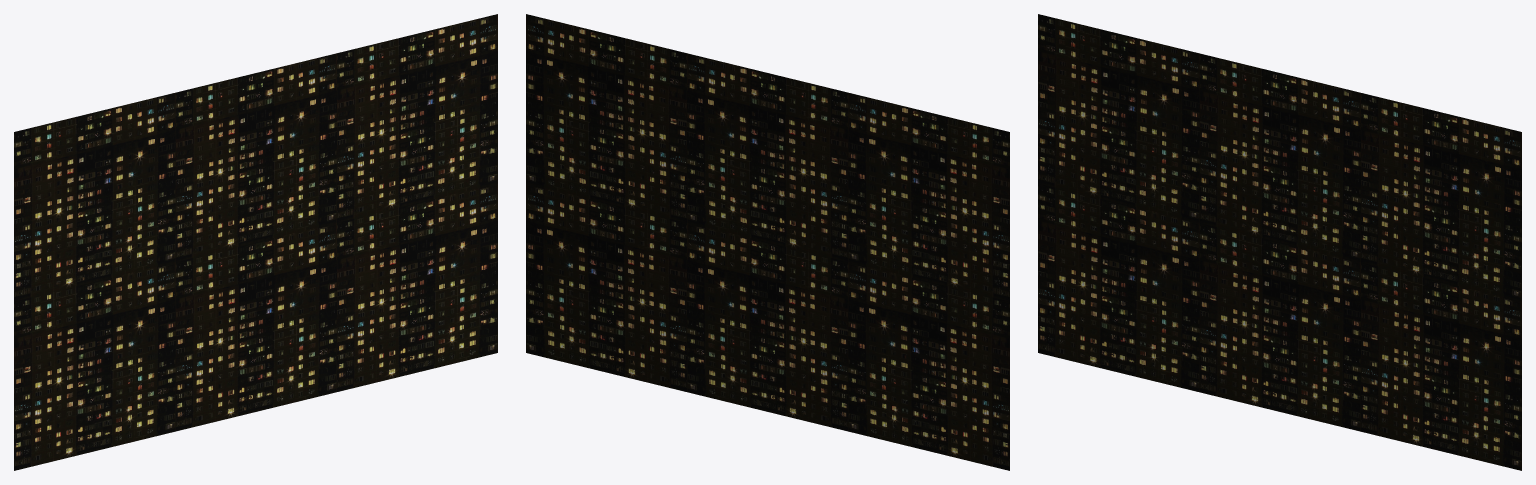
The model's file is WindowView.fbx.
3 renders of one model, left to right at view 1: azimuth 30°, elevation 25°; view 2: azimuth 150°, elevation 25°; view 3: azimuth 330°, elevation 25°, orthographic.
Visible parts, largest first — view 1: Plane.014; view 2: Plane.014; view 3: Plane.014.
Boxes of the visible parts, x1=… form: Plane.014: x1=14, y1=14, x2=497, y2=470; Plane.014: x1=526, y1=14, x2=1009, y2=470; Plane.014: x1=1038, y1=14, x2=1521, y2=470.
Bounding box in the file's own units: 1820 × 1218 × 0.000157.
1 material, 1 textured.
